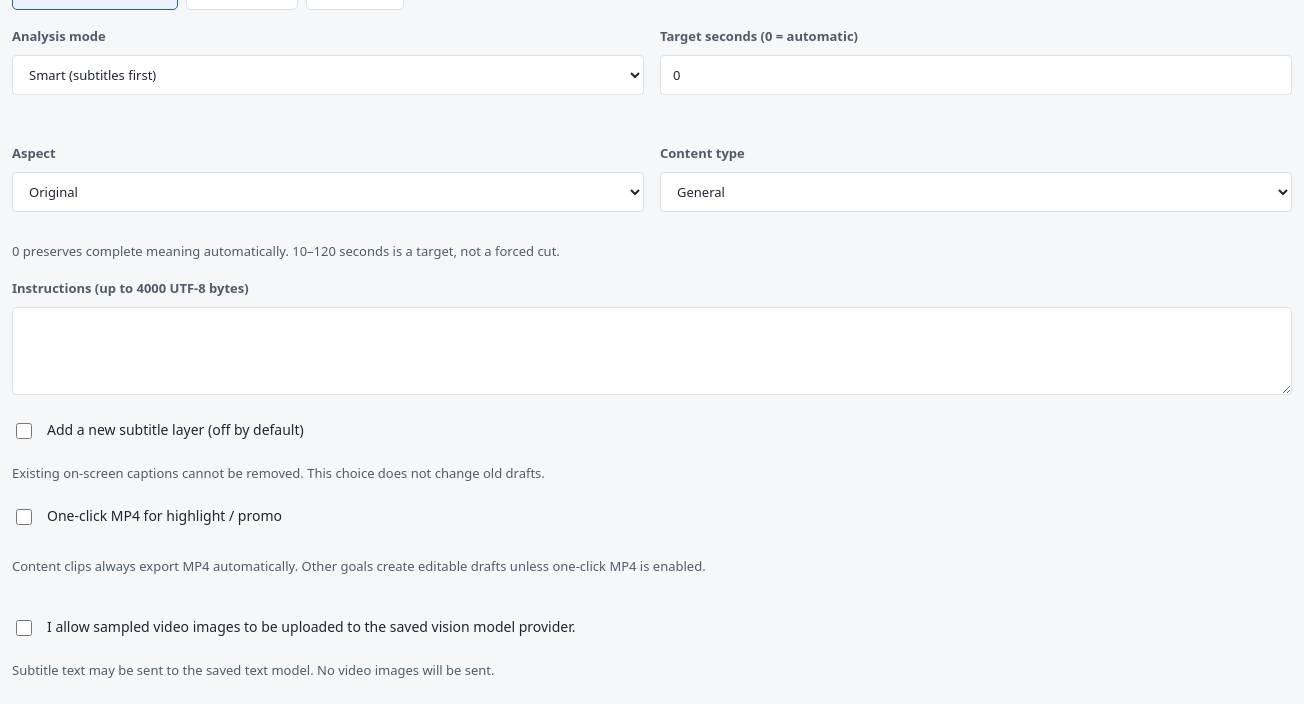
Test: plan recovery and cost boundaries › R2-02: a lost accepted confirmation replays the same revision, never another PUT, and consumes consent
(page scrolled)
Type "Keep full context" into the text box labelled "Instructions (up to 4000 UTF-8 bytes)" at coordinates (652, 351), box [12,307,1292,395]
(page scrolled)
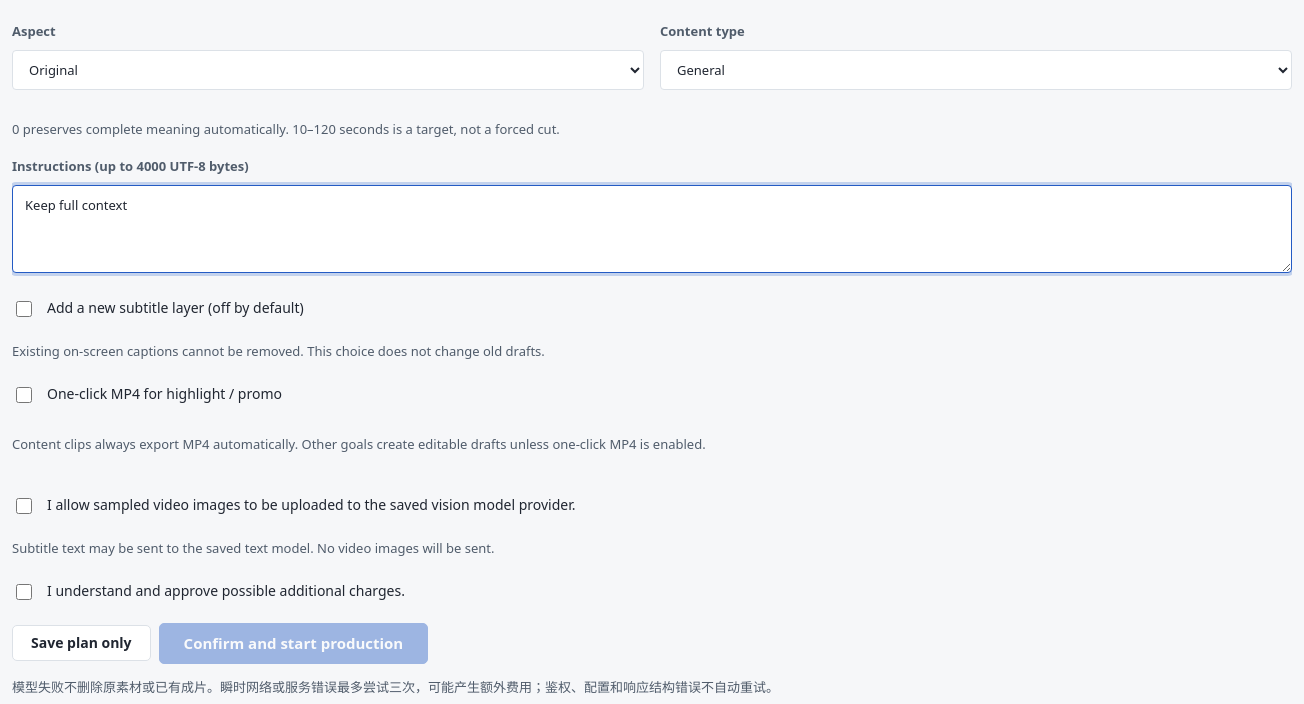
Click the checkbox labelled "I understand and approve possible additional charges." at coordinates (24, 592), box [16,584,32,600]
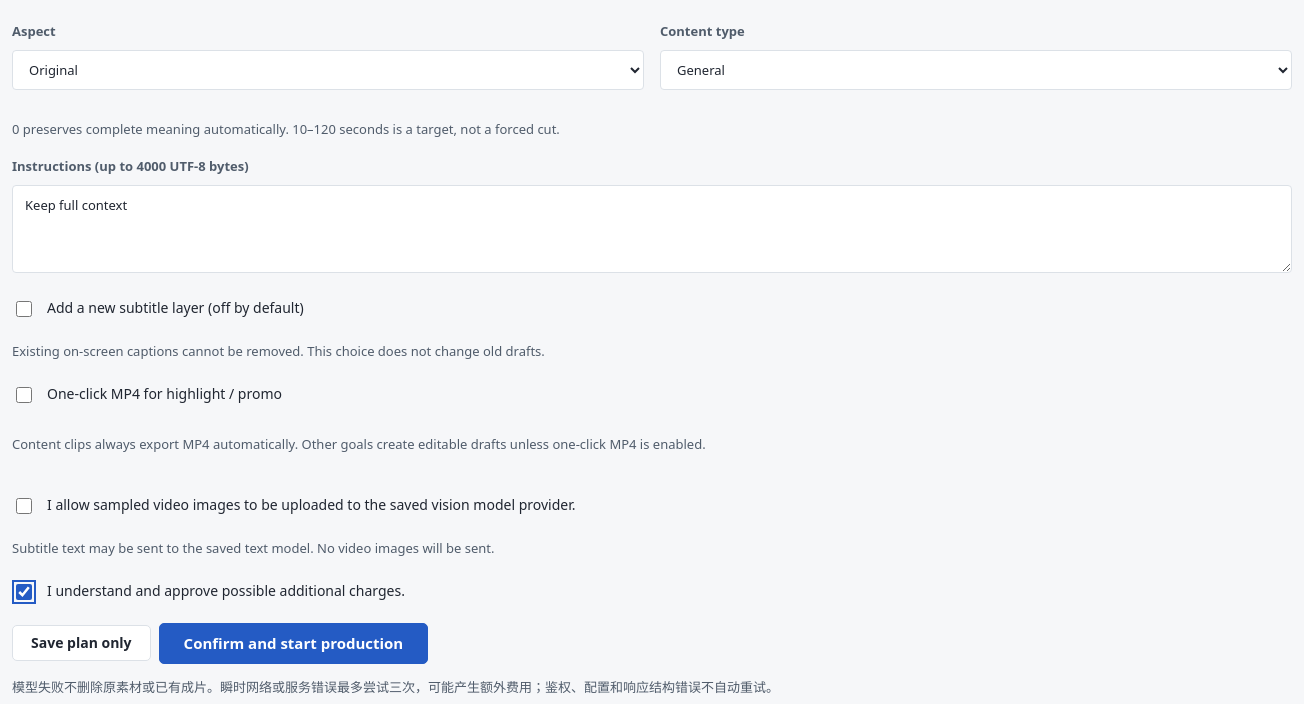
Click the button "Confirm and start production" at coordinates (293, 643), box [159,623,428,664]
(page scrolled)
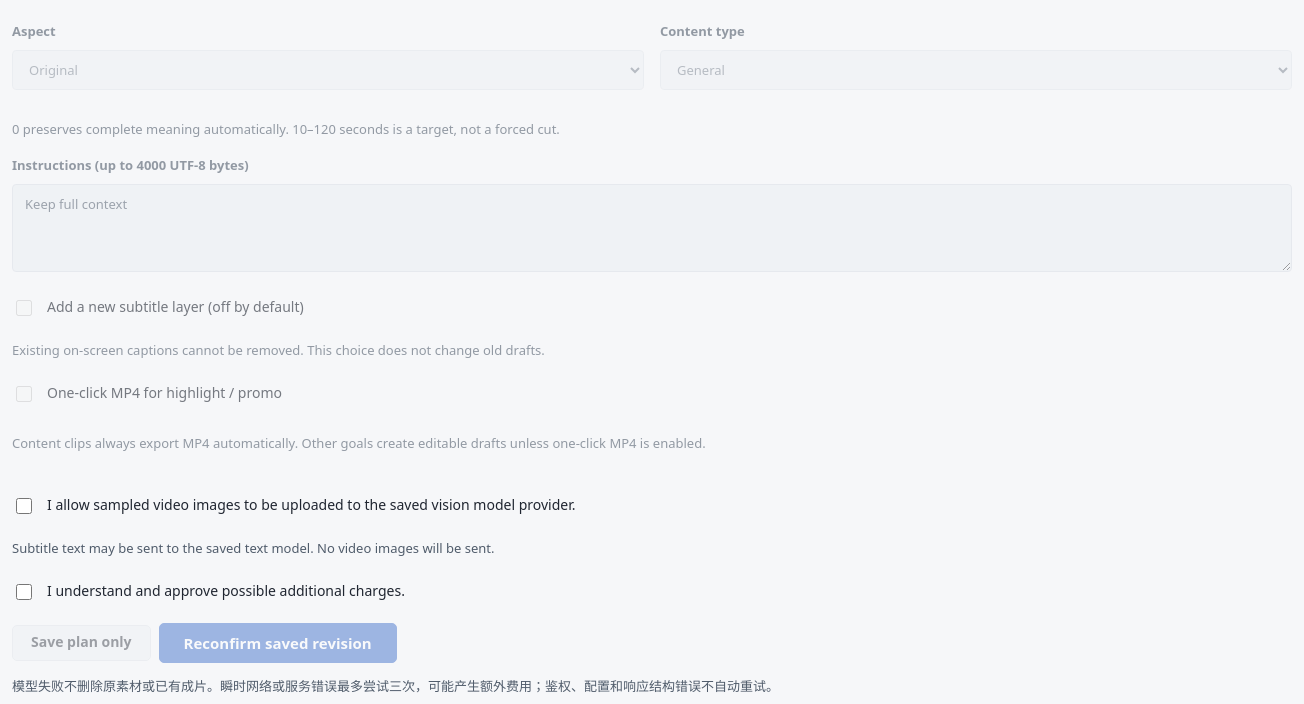
Now the checkbox labelled "I understand and approve possible additional charges." is not checked
Now the button "Save plan only" is disabled, box [12,625,151,661]
Now the button "Reconfirm saved revision" is disabled, box [159,623,397,663]
Click the checkbox labelled "I understand and approve possible additional charges." at coordinates (24, 592), box [16,584,32,600]
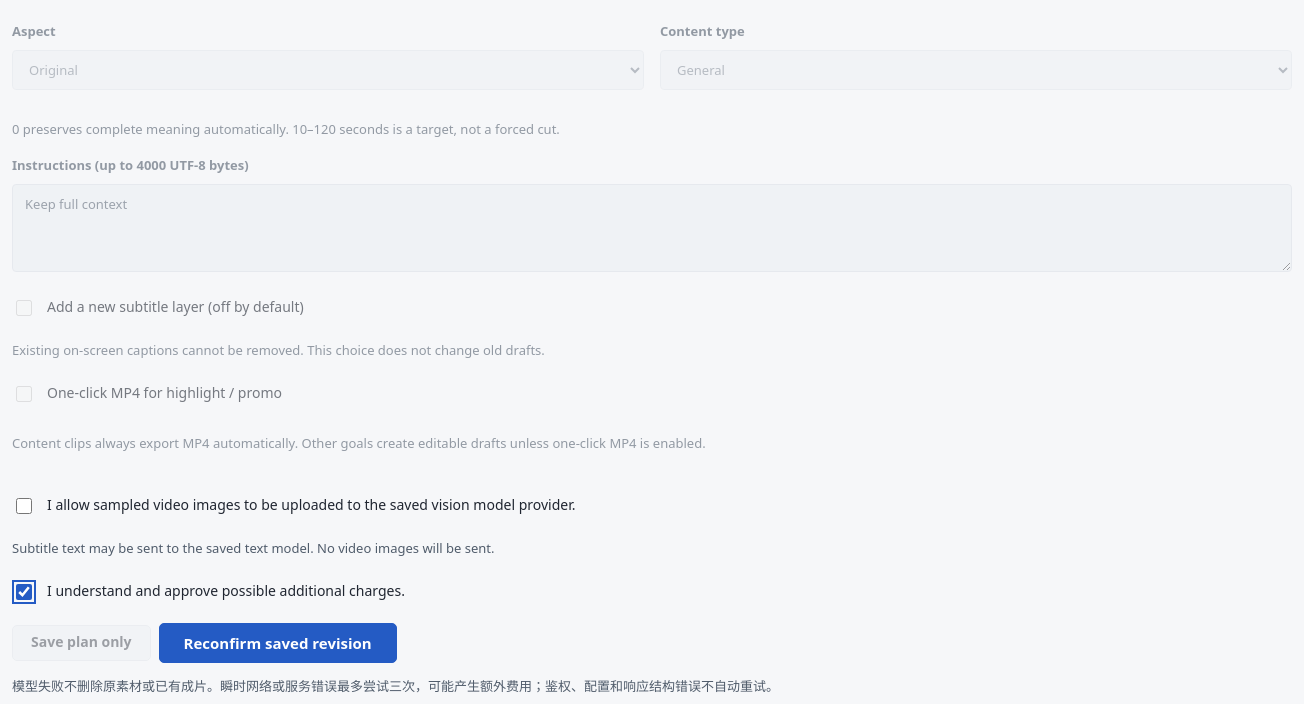
Click the button "Reconfirm saved revision" at coordinates (278, 643), box [159,623,397,663]
(page scrolled)
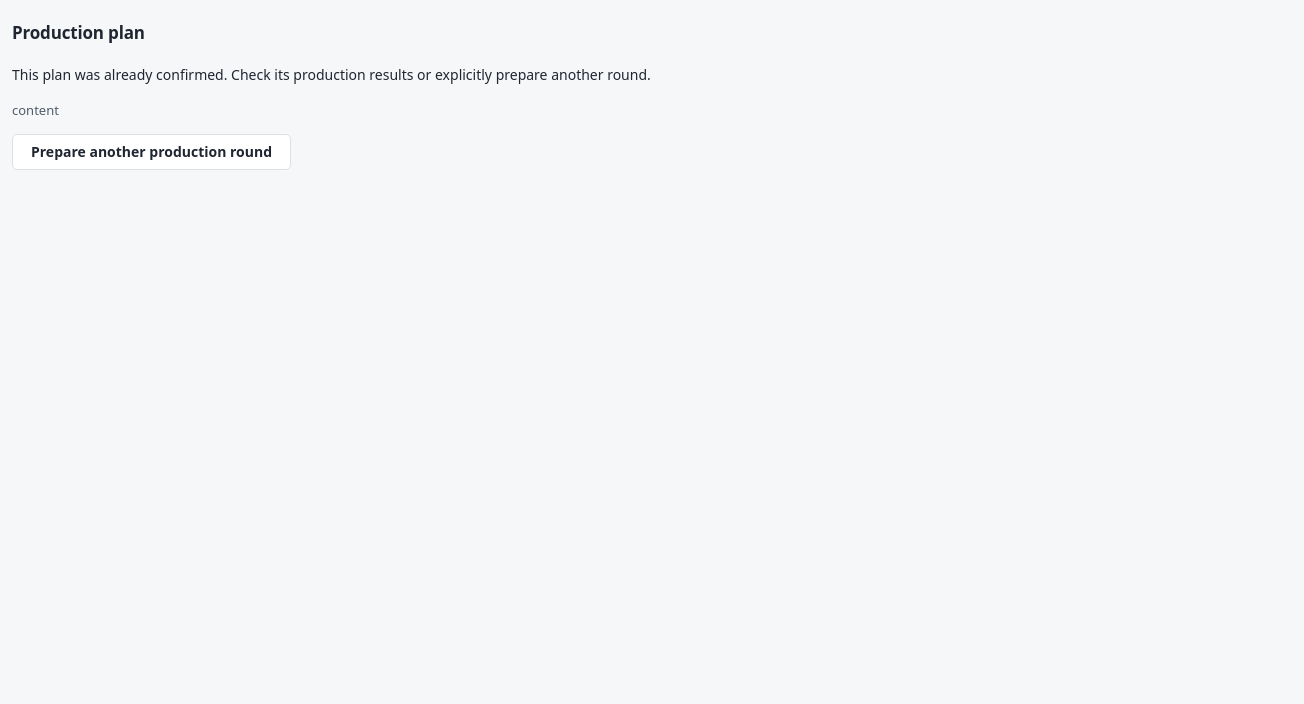
Now the text "This plan was already confirmed" is shown, box [12,65,651,84]
Now the label labelled "I understand and approve possible additional charges." is gone
